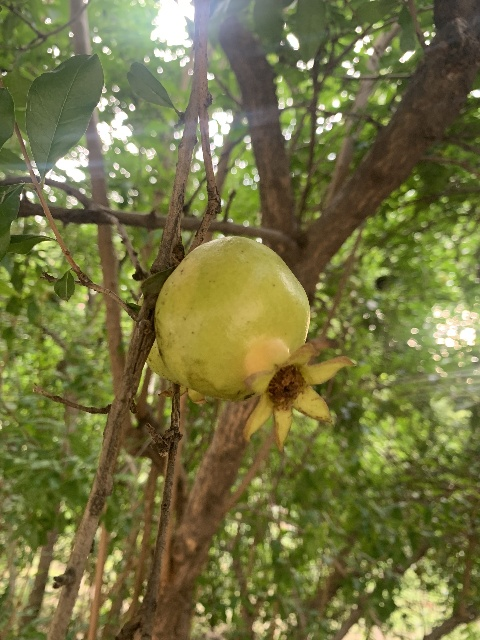mid-growth: (149, 236, 356, 450)
